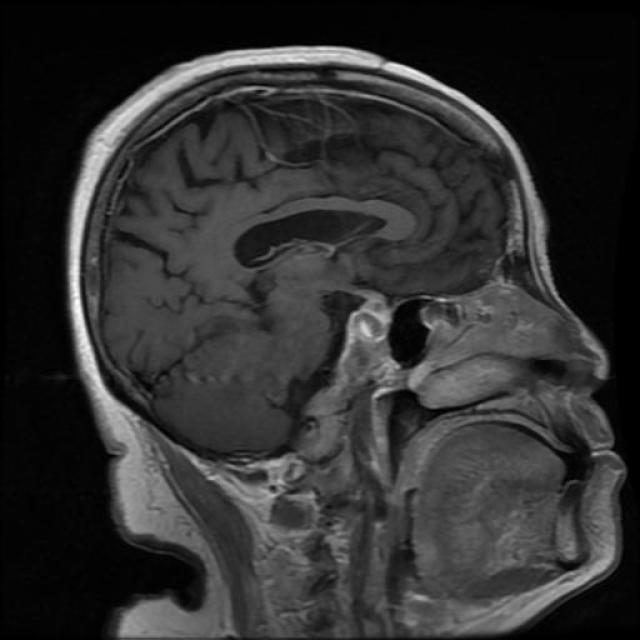pituitary: (336, 288, 391, 352)
